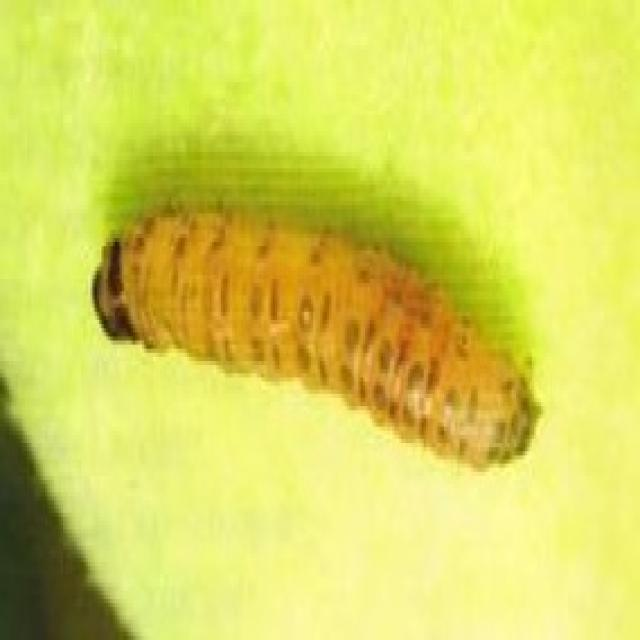peach borer: (90, 198, 547, 485)
